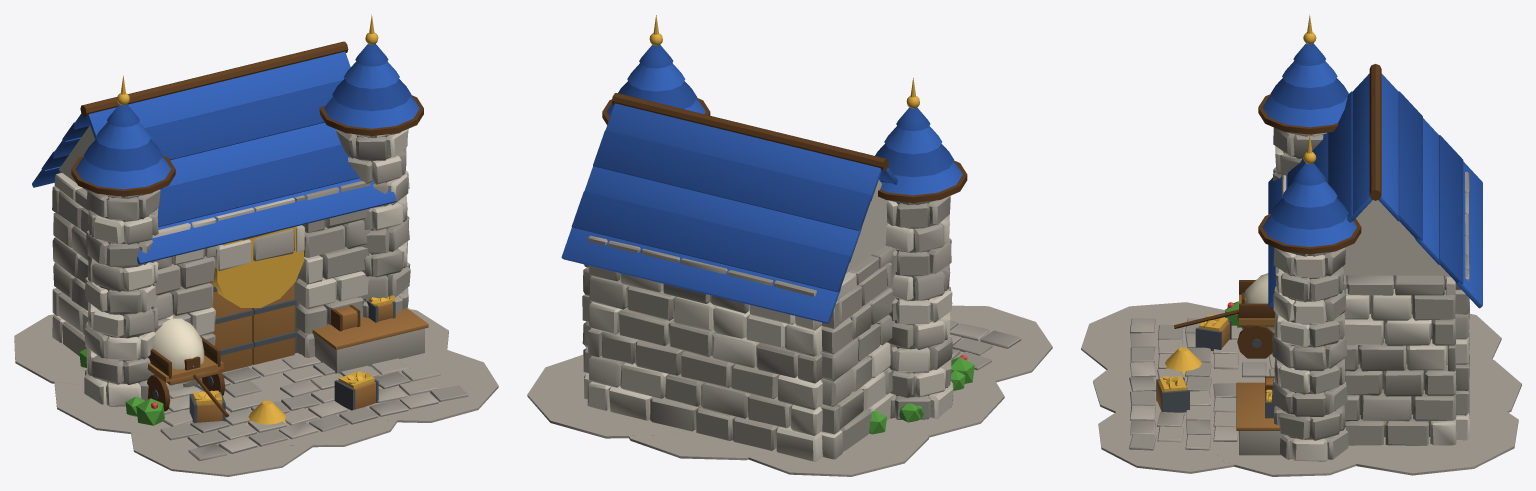
File: magazyn_poz19.glb
The picture shows the model from 3 angles, left to right: view 1: azimuth 30°, elevation 25°; view 2: azimuth 150°, elevation 25°; view 3: azimuth 270°, elevation 25°; orthographic projection. The views are drawn at different scales.
Visible parts, largest first — view 1: magazyn_poz19; view 2: magazyn_poz19; view 3: magazyn_poz19.
Boxes of the visible parts, x1,y1,x2,y2 form: magazyn_poz19: [14, 14, 498, 476]; magazyn_poz19: [527, 15, 1052, 476]; magazyn_poz19: [1081, 14, 1521, 476].
Bounding box in the file's own units: 8.39 × 7 × 8.71.
